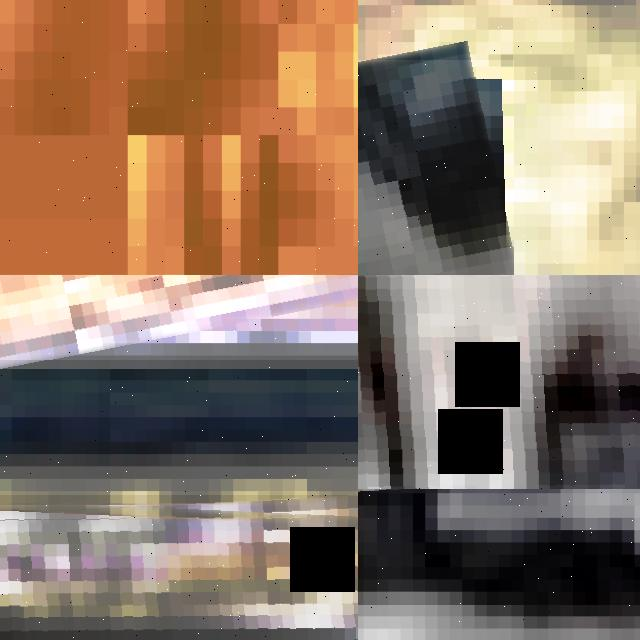arms: (0, 318, 358, 577), (358, 0, 640, 275), (358, 275, 640, 489), (0, 495, 358, 640), (358, 60, 514, 275), (0, 275, 358, 360)
